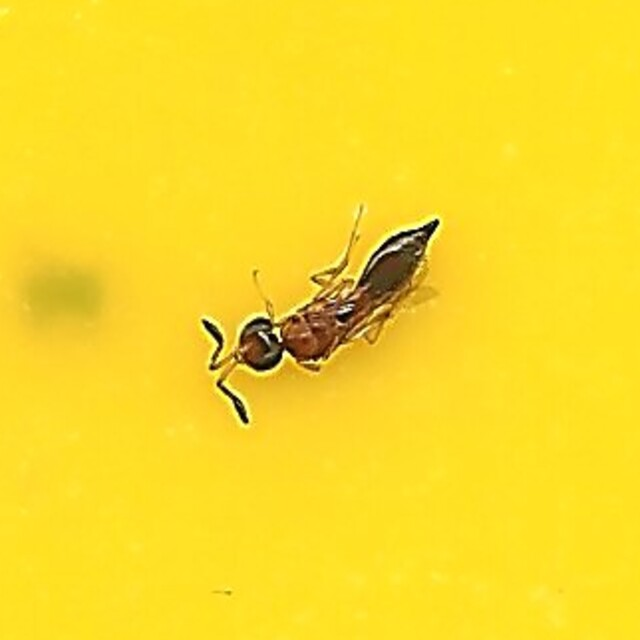Hymenoptera: (199, 213, 441, 427)
